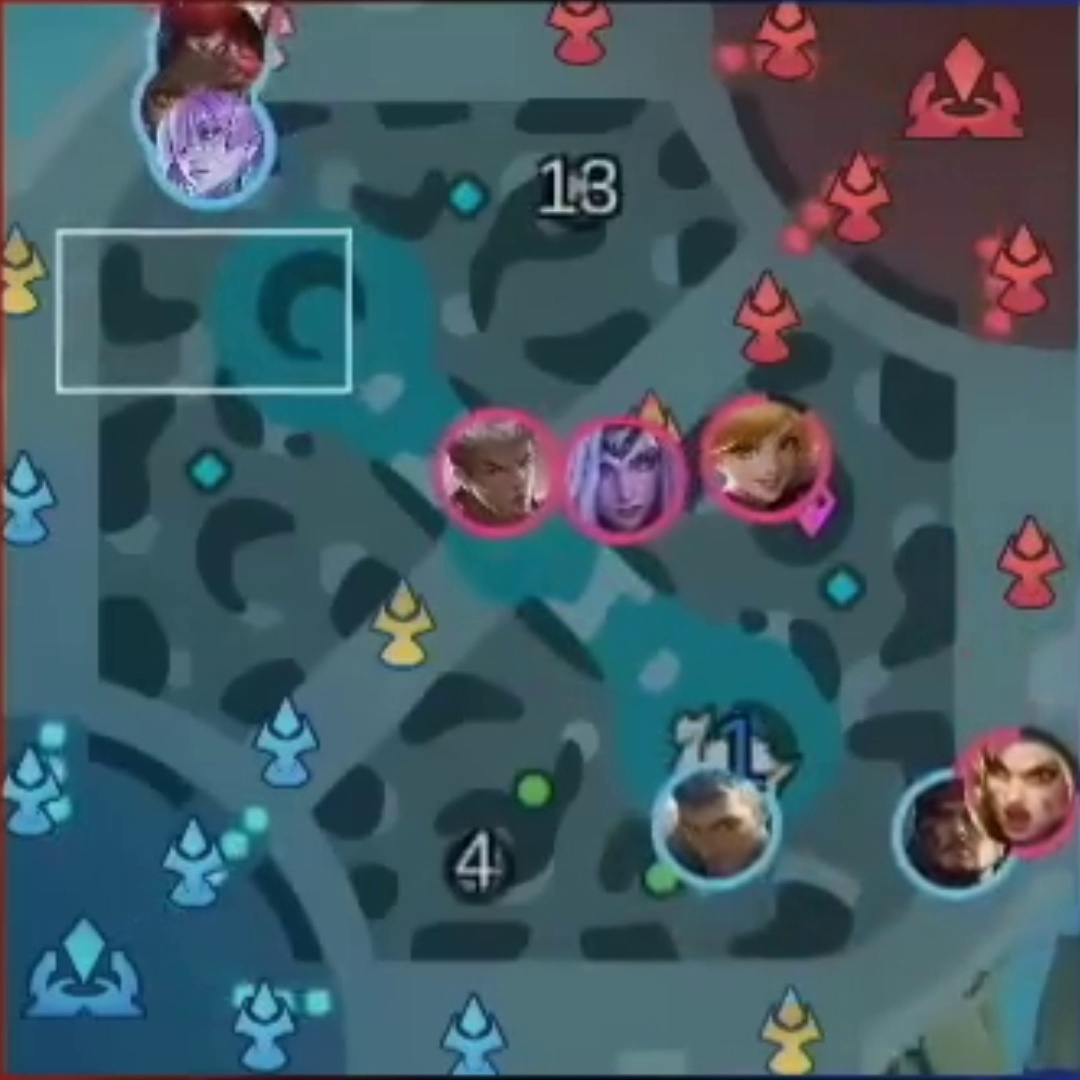Chou: (457, 424, 541, 510)
Fanny: (719, 407, 805, 501)
Fredrinn: (668, 779, 763, 870)
Lapu-Lapu: (921, 788, 986, 871)
Masha: (985, 745, 1064, 835)
Minotaur: (177, 11, 259, 74)
Novaria: (166, 103, 257, 196)
Valentina: (578, 437, 666, 527)
